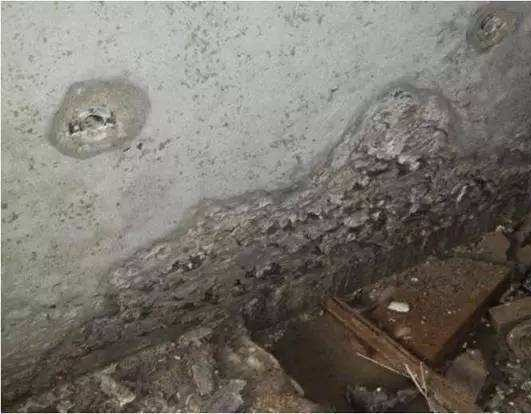Spalling: (25, 80, 531, 395), (46, 79, 148, 161), (464, 1, 531, 56)
